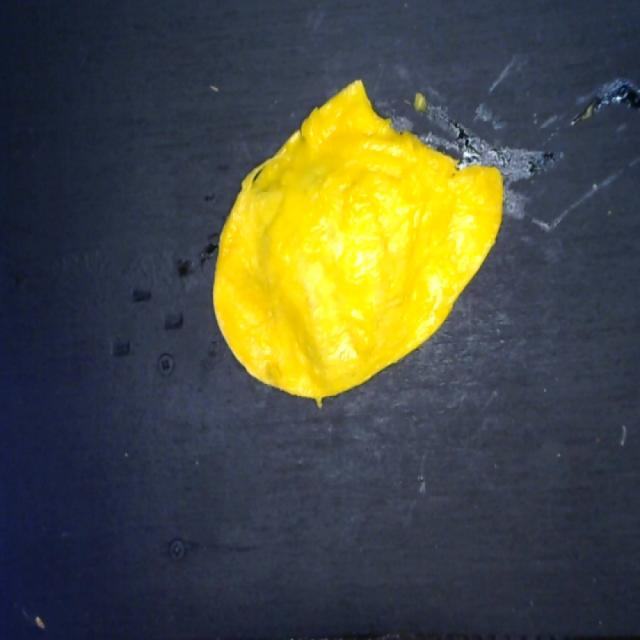biodegradable: (207, 71, 508, 409)
